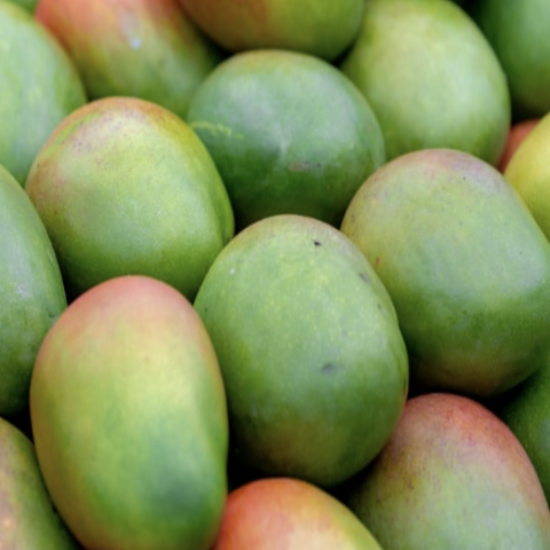mango: (172, 208, 424, 480), (12, 270, 251, 544), (338, 126, 549, 419), (175, 19, 396, 225)
